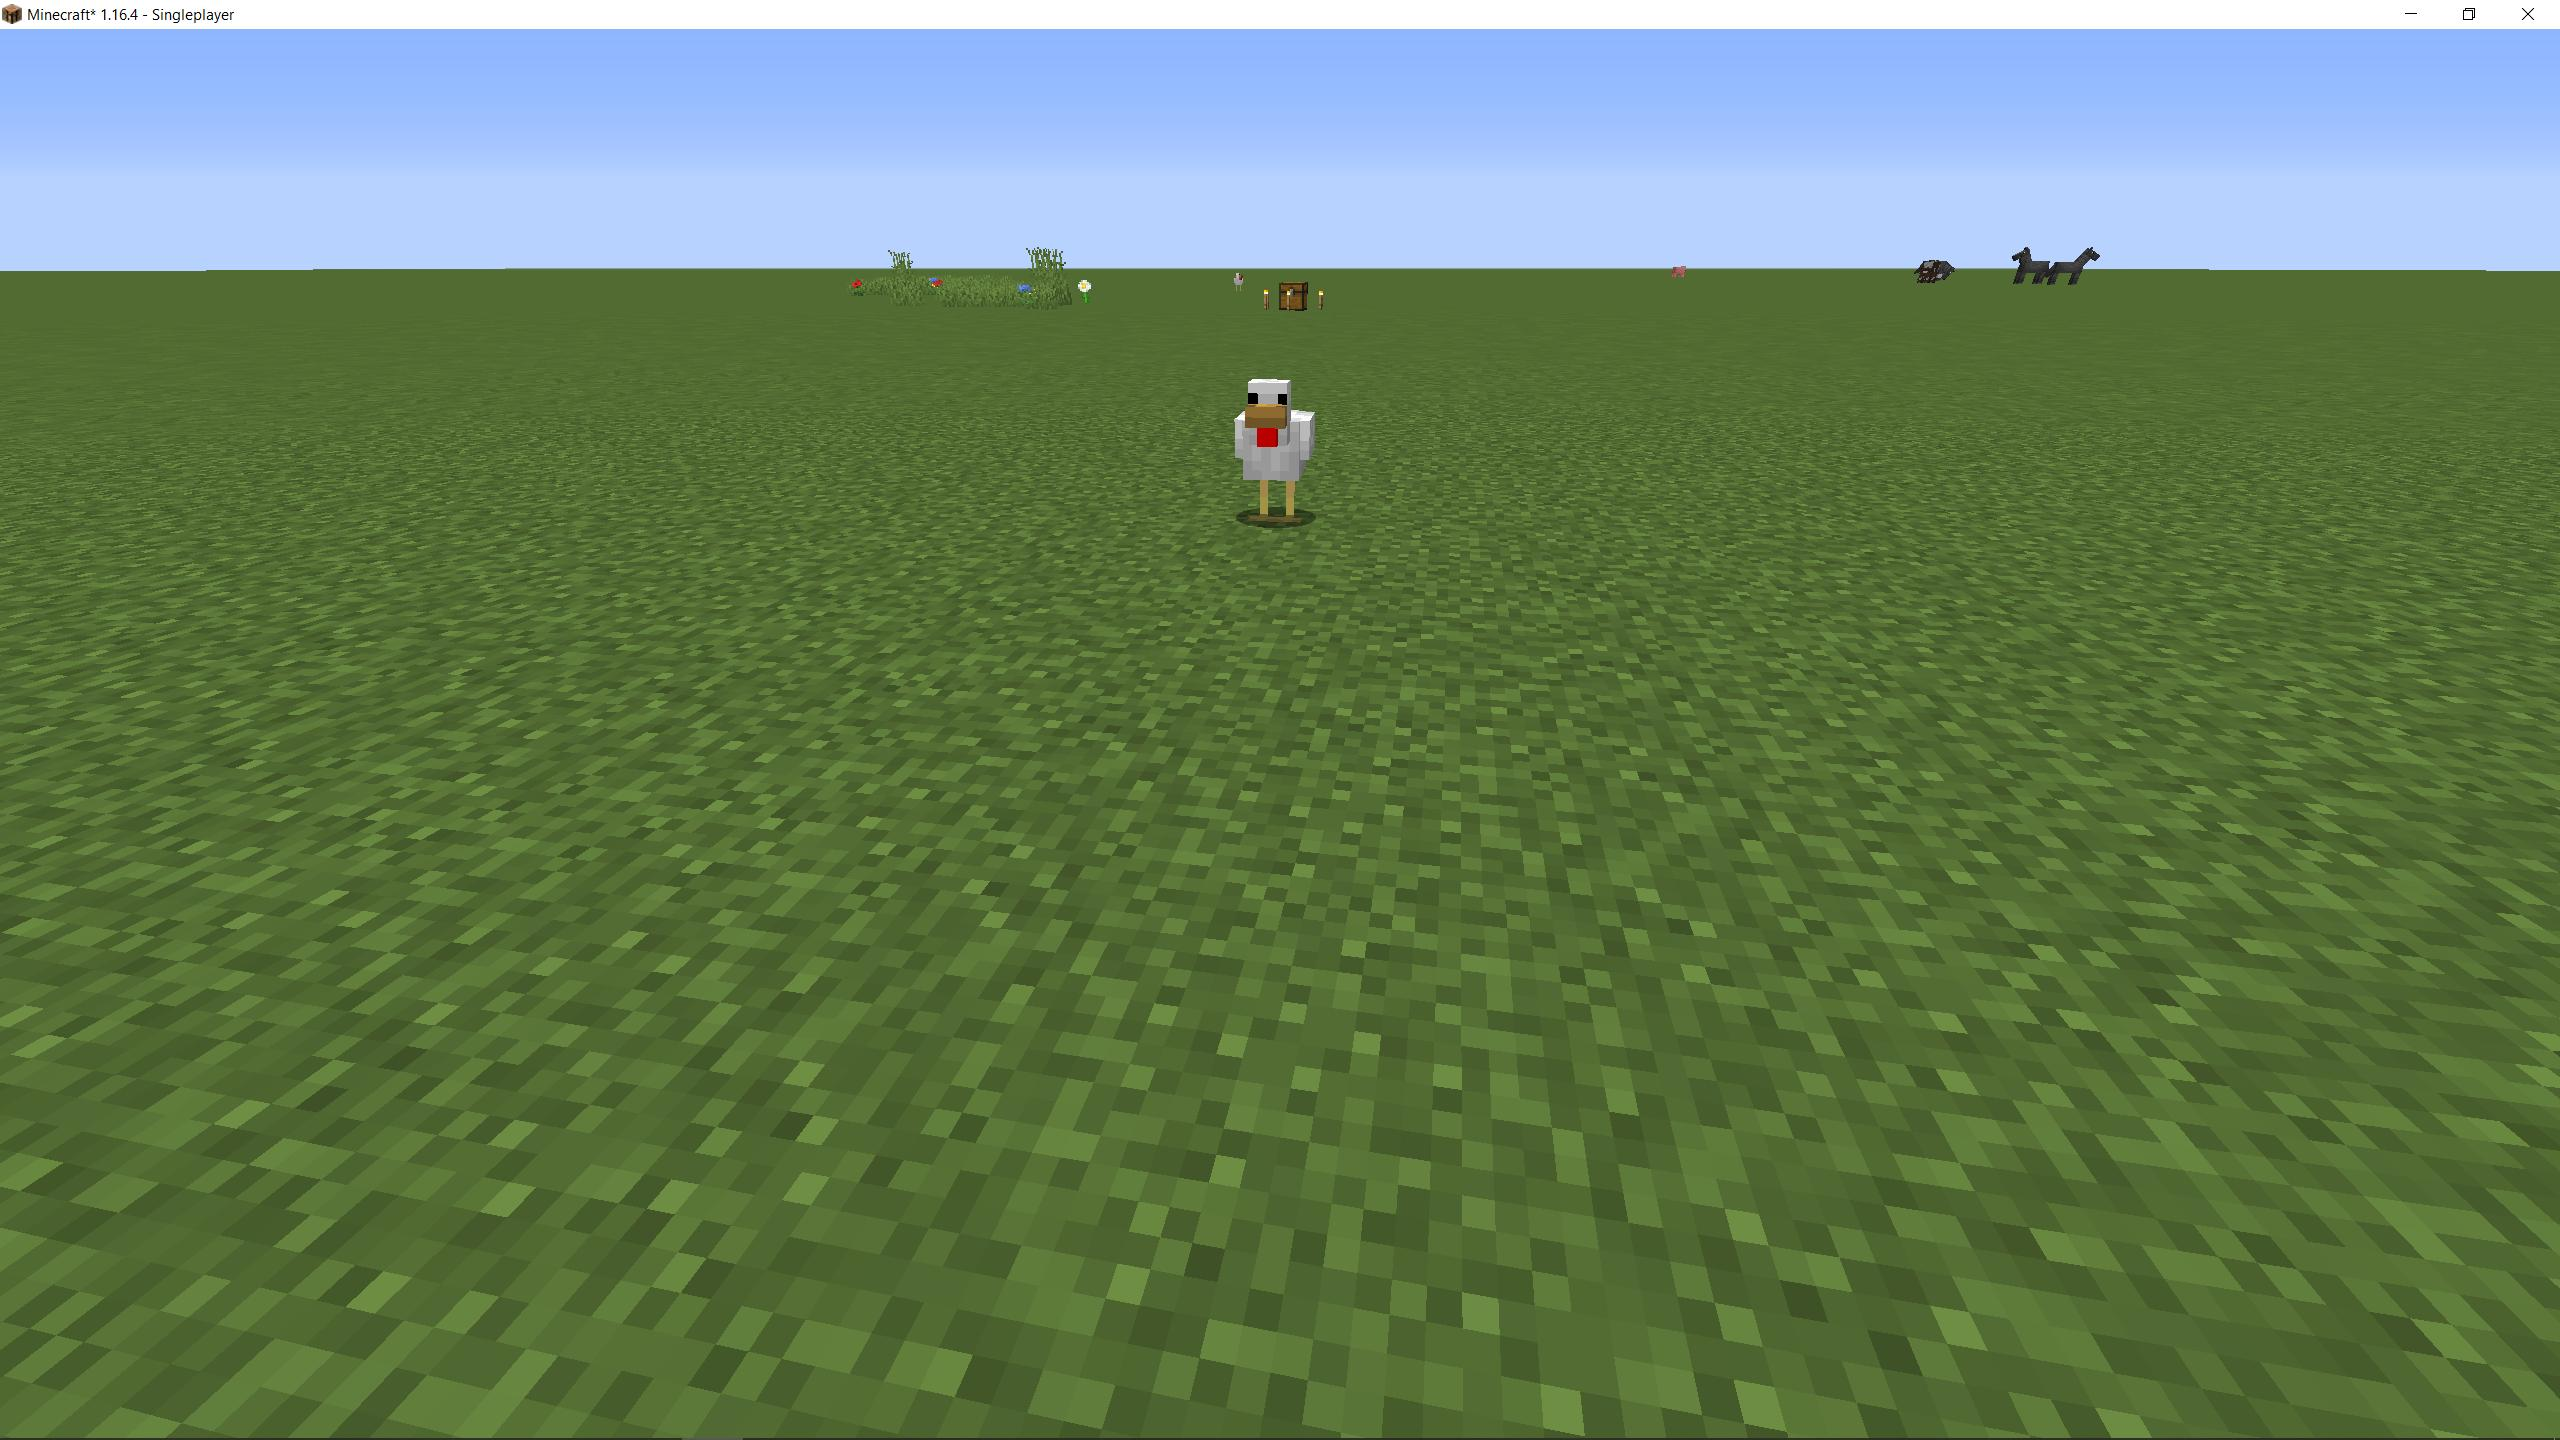chicken: (1229, 375, 1326, 527)
